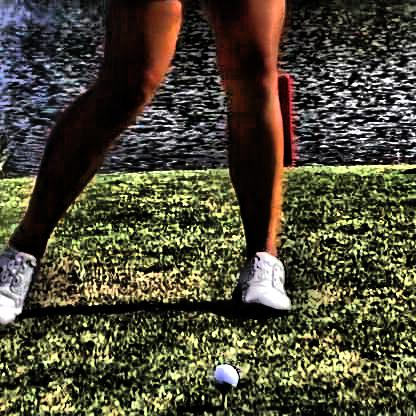golfball: (207, 361, 236, 390)
